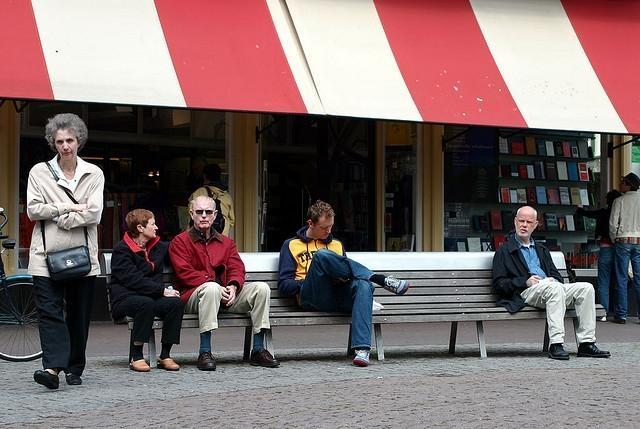bicycle: (1, 208, 42, 362)
